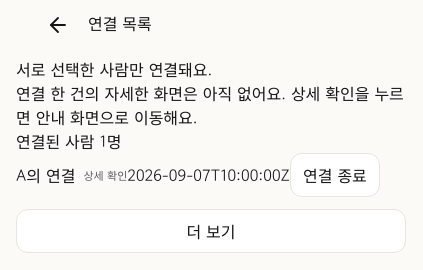
Test: ConnectionsPage › ignores a stale A append error after account B becomes active
Expected: the text "A의 연결" is shown, x1=16 y1=163 x2=75 y2=187
Click the button "더 보기" at (211, 231), box x1=16 y1=209 x2=406 y2=253
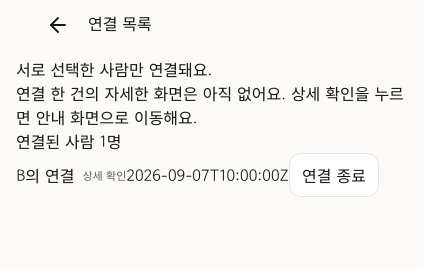
Expected: the text "B의 연결" is shown, x1=16 y1=163 x2=74 y2=187
